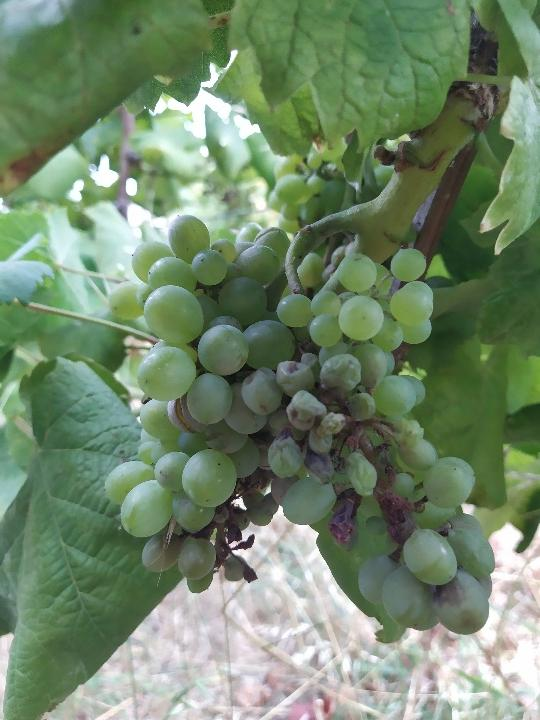grape: (100, 211, 499, 638)
